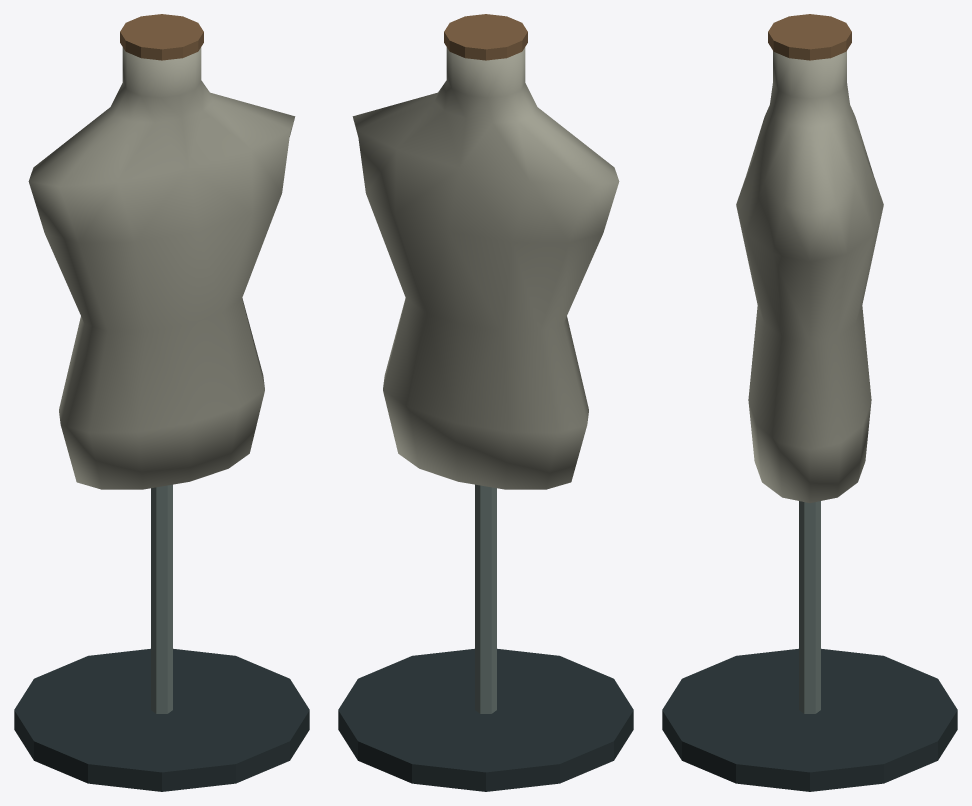
3 renders of one model, left to right at view 1: azimuth 30°, elevation 25°; view 2: azimuth 150°, elevation 25°; view 3: azimuth 270°, elevation 25°, orthographic.
Visible parts, largest first — view 1: a199; view 2: a199; view 3: a199.
Boxes of the visible parts, bbox=[...] form: a199: bbox=[14, 14, 309, 791]; a199: bbox=[338, 14, 633, 791]; a199: bbox=[662, 14, 957, 791].
Size of the model in its own units: 0.5 by 1.25 by 0.48.
